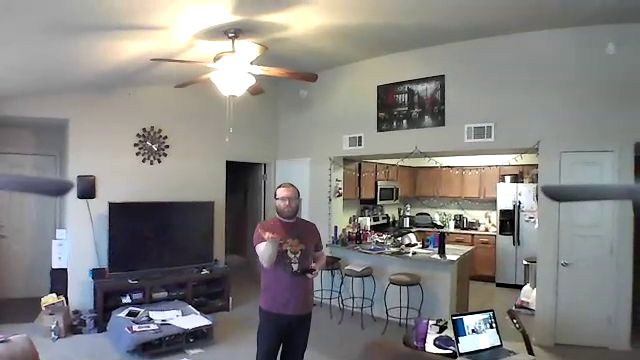land: (254, 225, 282, 244)
